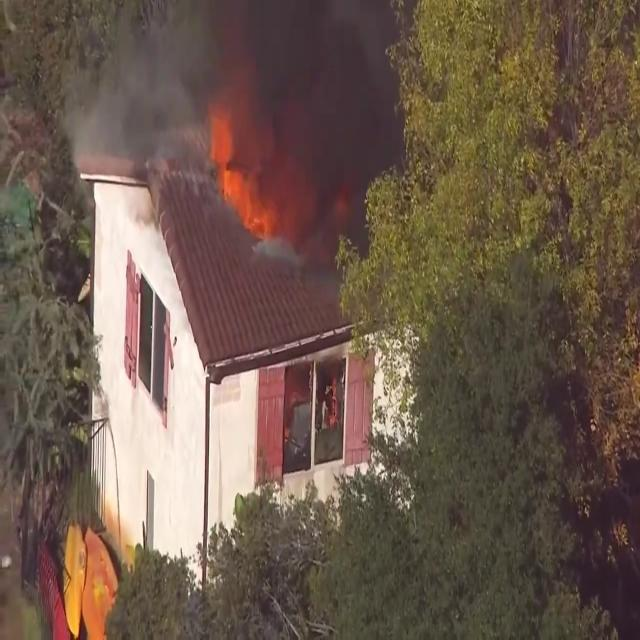Fire: (208, 103, 274, 245)
Smoke: (72, 0, 384, 271)
